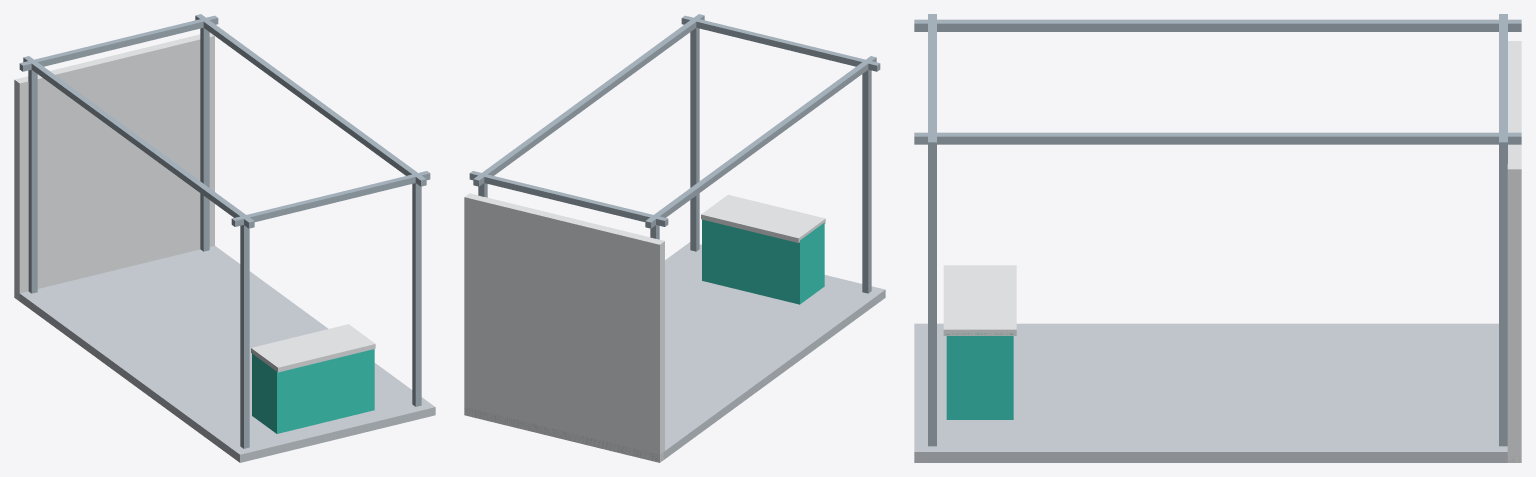
3 views of the same model, side by side, from view 1: azimuth 30°, elevation 25°; view 2: azimuth 150°, elevation 25°; view 3: azimuth 270°, elevation 25° (orthographic). The views are drawn at different scales.
Parts seen in each view (by area): view 1: Exhibition Booth Concept; view 2: Exhibition Booth Concept; view 3: Exhibition Booth Concept.
Boxes of the visible parts, x1,y1,x2,y2 form: Exhibition Booth Concept: [14, 14, 435, 462]; Exhibition Booth Concept: [464, 14, 885, 462]; Exhibition Booth Concept: [914, 14, 1521, 462].
Size of the model in its own units: 3 by 3.49 by 6.
